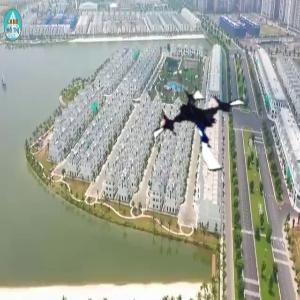drone: (153, 77, 259, 183)
